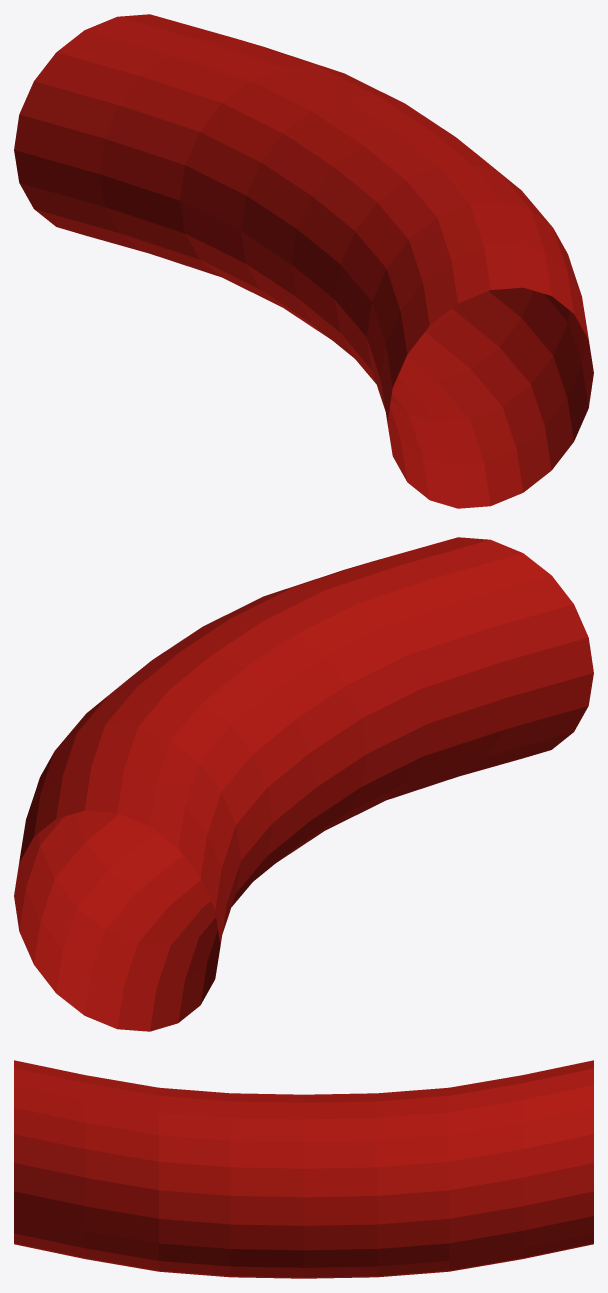
File: Vessel_Chicane_right_100_inside.fbx
3 views of the same model, one above another, from view 1: azimuth 30°, elevation 25°; view 2: azimuth 150°, elevation 25°; view 3: azimuth 270°, elevation 25° (orthographic). The views are drawn at different scales.
Visible parts, largest first — view 1: Vessel_Chicane_right_100; view 2: Vessel_Chicane_right_100; view 3: Vessel_Chicane_right_100.
Part boxes in pixels (<box>): Vessel_Chicane_right_100: <box>14,14,593,508</box>; Vessel_Chicane_right_100: <box>14,537,593,1031</box>; Vessel_Chicane_right_100: <box>14,1060,593,1278</box>.
Bounding box in the file's own units: 9.2 × 6.39 × 20.
